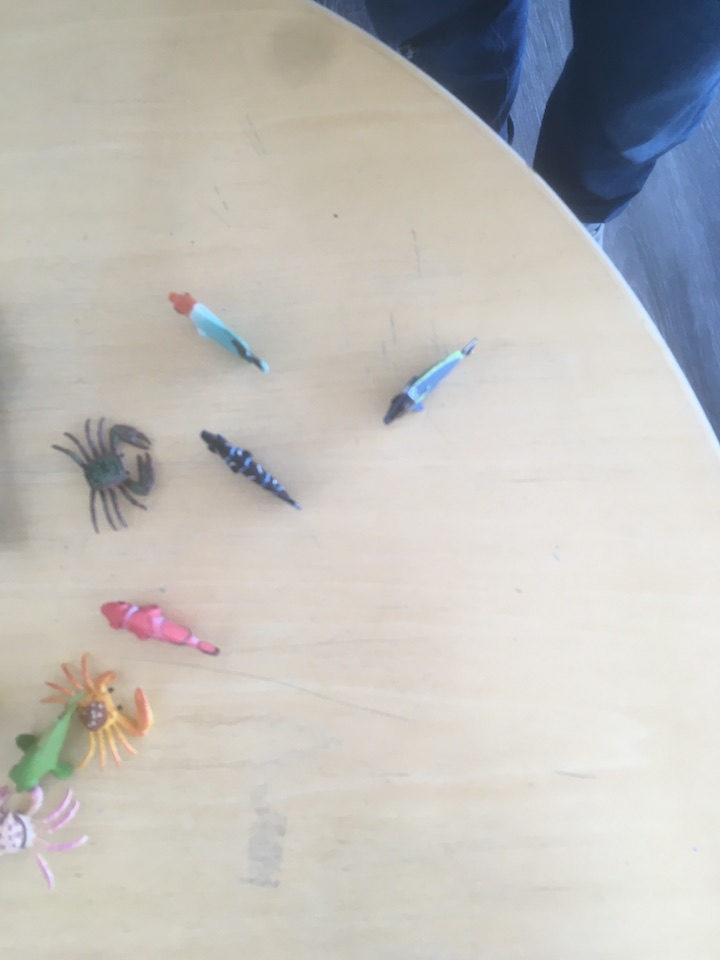crab: (34, 651, 158, 774), (50, 412, 160, 532), (1, 780, 90, 894)
fish: (377, 331, 490, 431), (193, 423, 308, 518), (4, 682, 95, 798), (165, 284, 274, 377), (95, 595, 228, 662)
